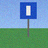sign: (20, 2, 36, 37)
